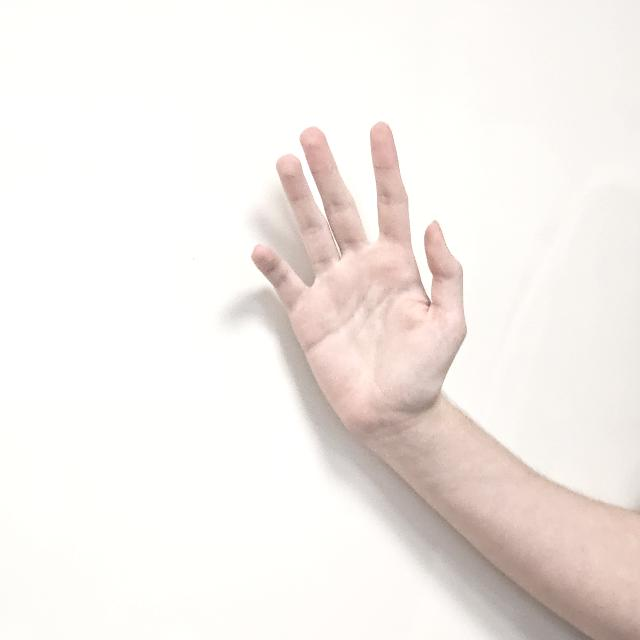X: (250, 120, 468, 452)
